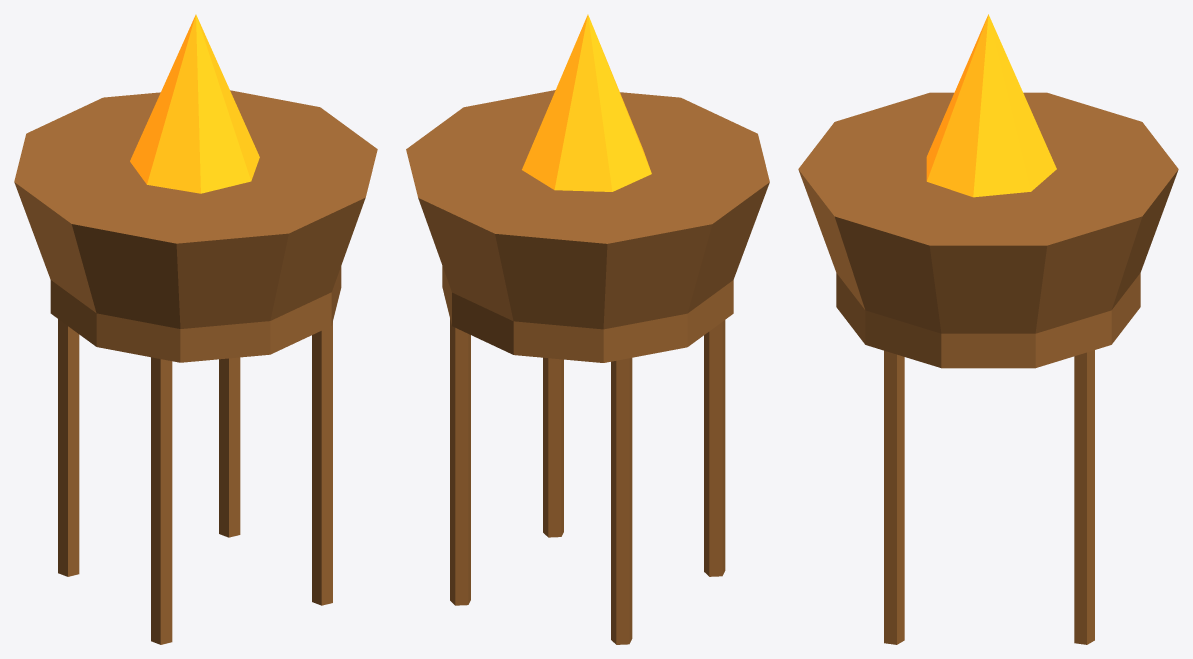
Rendered from brazier.glb.
The picture shows the model from 3 angles, left to right: view 1: azimuth 30°, elevation 25°; view 2: azimuth 150°, elevation 25°; view 3: azimuth 270°, elevation 25°; orthographic projection. The views are drawn at different scales.
Visible parts, largest first — view 1: brazier; view 2: brazier; view 3: brazier.
Boxes of the visible parts, bbox=[...] form: brazier: bbox=[14, 14, 377, 644]; brazier: bbox=[406, 14, 769, 644]; brazier: bbox=[798, 14, 1178, 644].
Size of the model in its own units: 0.9511 by 1.7 by 1.
